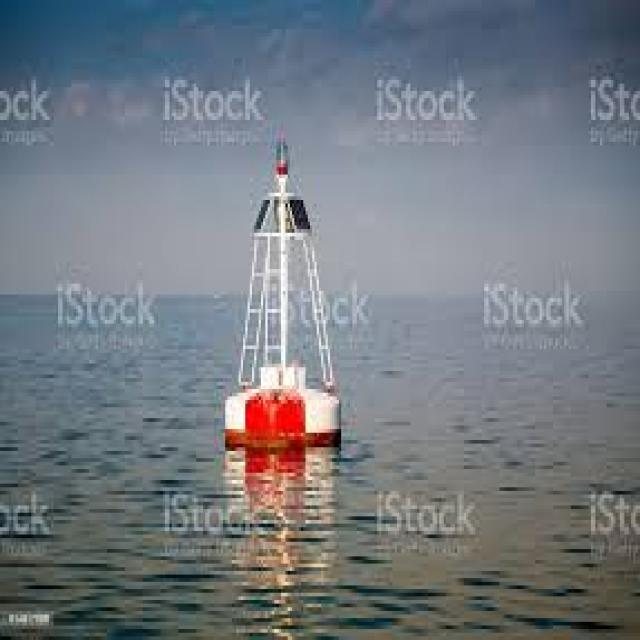2.4 safe water mark: (214, 109, 348, 462)
